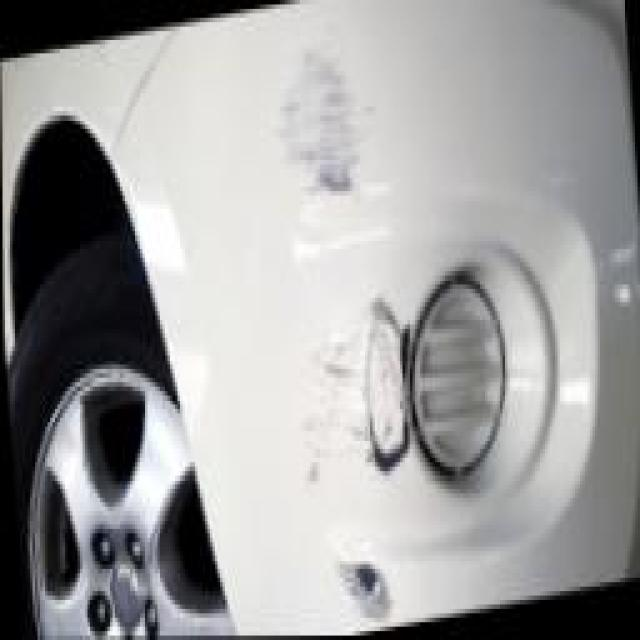Bumper: (192, 0, 639, 638)
